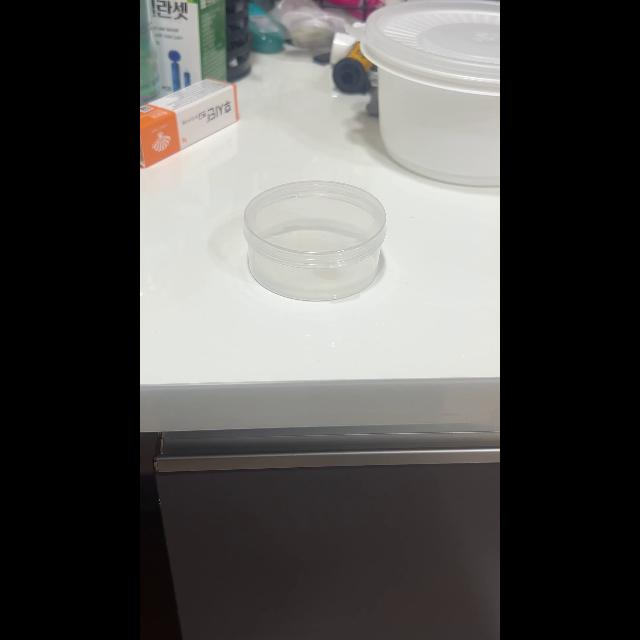clean: (242, 180, 388, 300)
